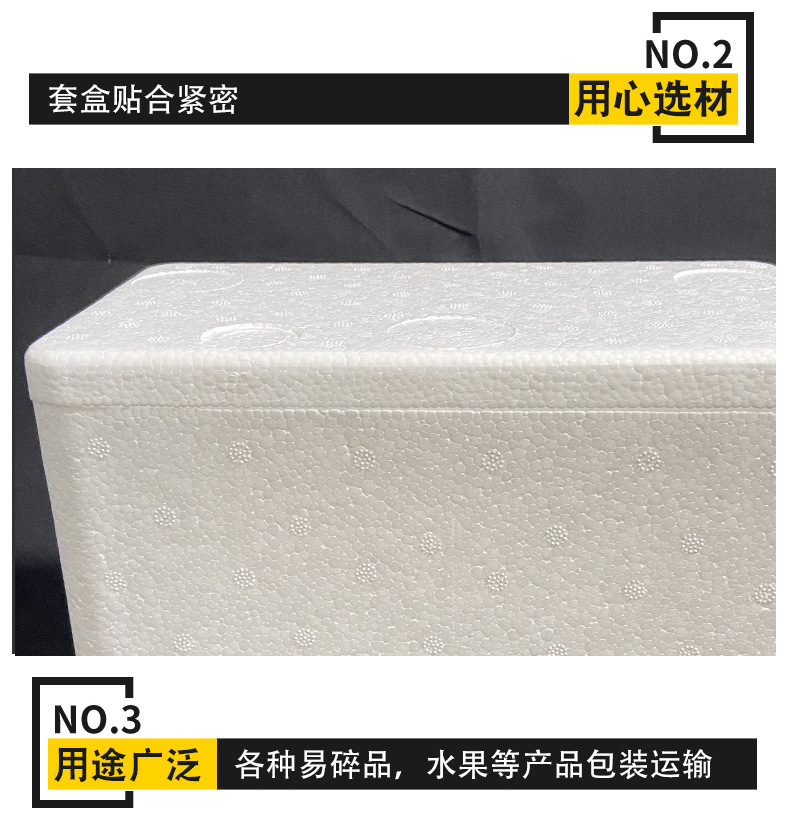泡沫箱: (26, 265, 775, 656)
